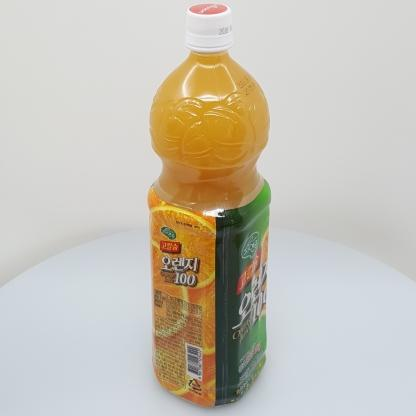--------1-5L: (147, 3, 271, 408)
